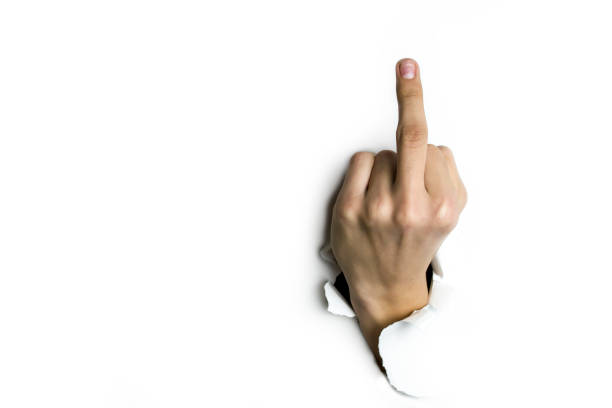insulting_gesture: (330, 56, 467, 308)
